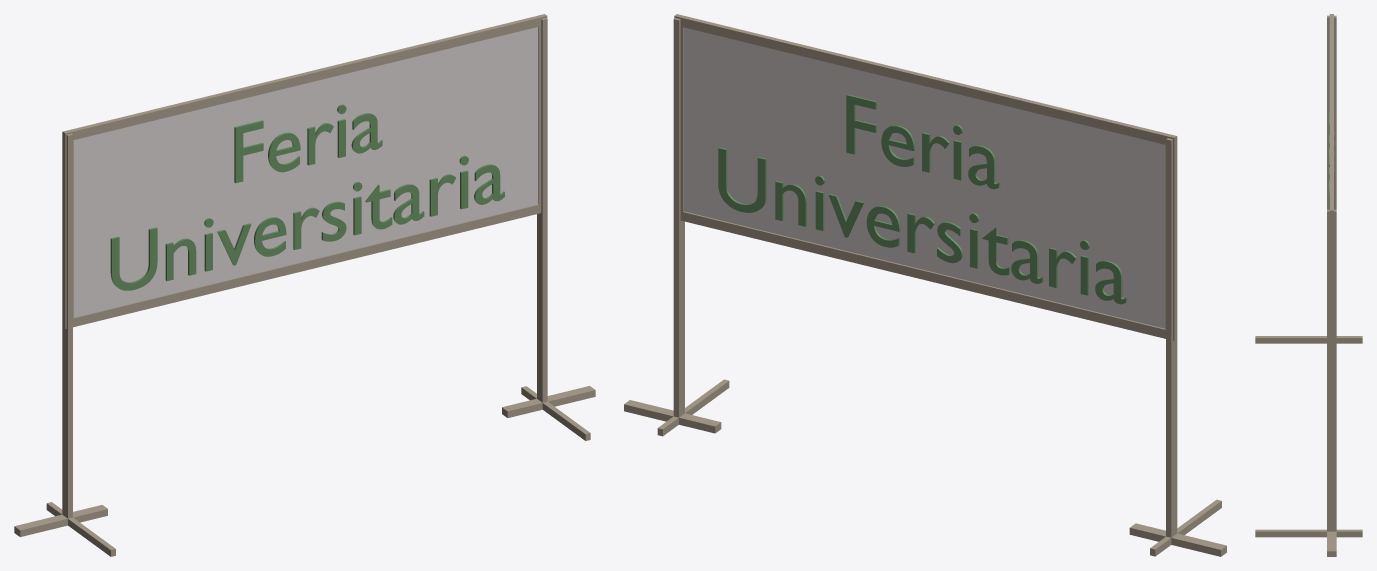
The model's file is Nuruck_cartel.fbx.
3 views of the same model, side by side, from view 1: azimuth 30°, elevation 25°; view 2: azimuth 150°, elevation 25°; view 3: azimuth 270°, elevation 25° (orthographic). The views are drawn at different scales.
Visible parts, largest first — view 1: Cube.113; view 2: Cube.113; view 3: Cube.113.
Boxes of the visible parts, x1,y1,x2,y2 form: Cube.113: (14,14,595,556); Cube.113: (624,14,1226,556); Cube.113: (1255,14,1362,556).
Bounding box in the file's own units: 493 × 320 × 95.21.
